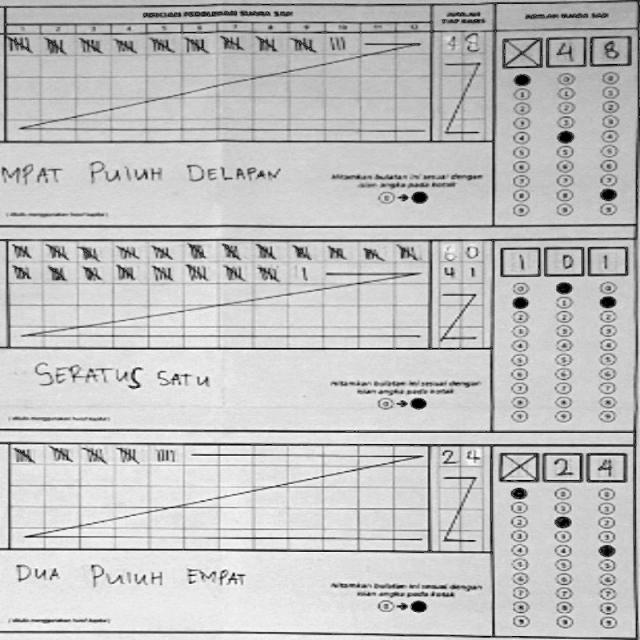Suara: (497, 238, 630, 280), (499, 29, 633, 70), (494, 446, 627, 487)
